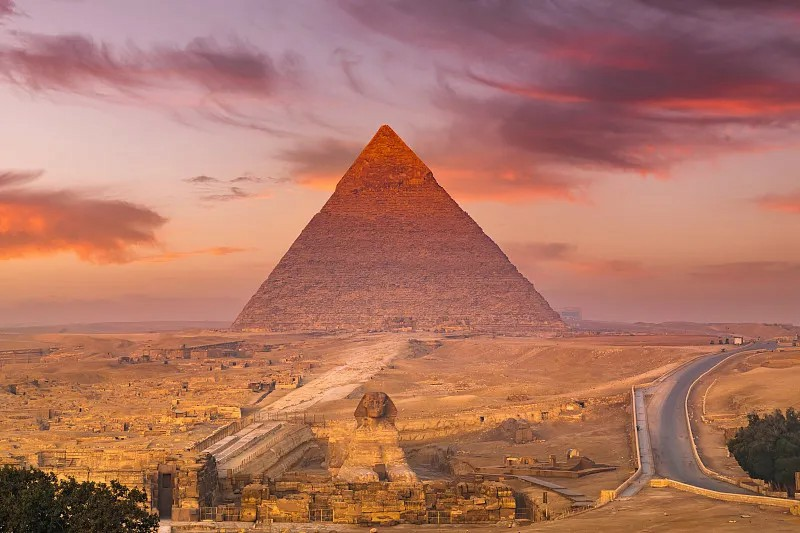Pyramid: (227, 126, 566, 332)
